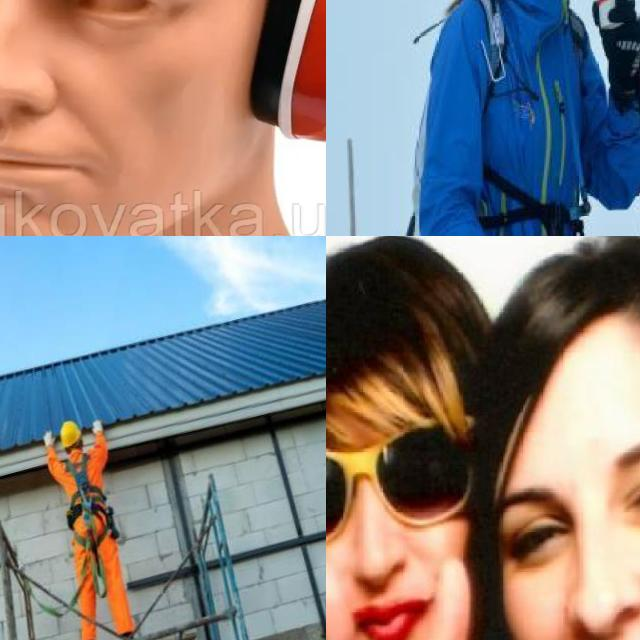Ear-protection: (0, 0, 326, 199)
Harness: (66, 454, 119, 538)
No_Glasses: (492, 463, 640, 562)
face_nomask: (326, 439, 480, 640), (497, 452, 640, 640)
glasses: (326, 422, 476, 553)
hand_glove: (585, 0, 640, 69)
hand_noglove: (326, 547, 473, 640)
head_nohelmet: (326, 236, 475, 443), (500, 236, 640, 414)
person: (410, 0, 640, 236)
